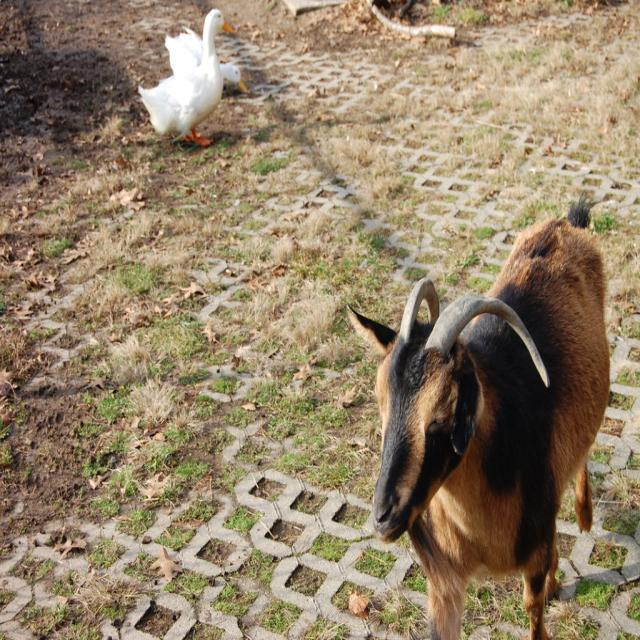Goat: (345, 191, 611, 638), (137, 7, 247, 148)
